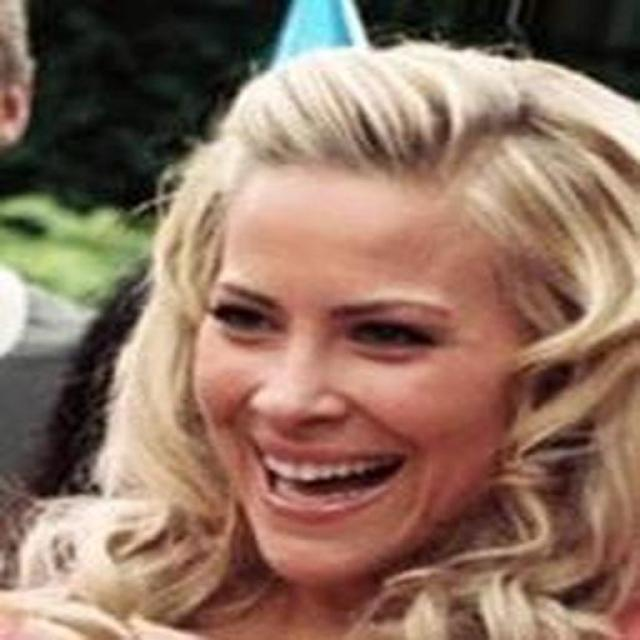bareface: (178, 79, 640, 588)
